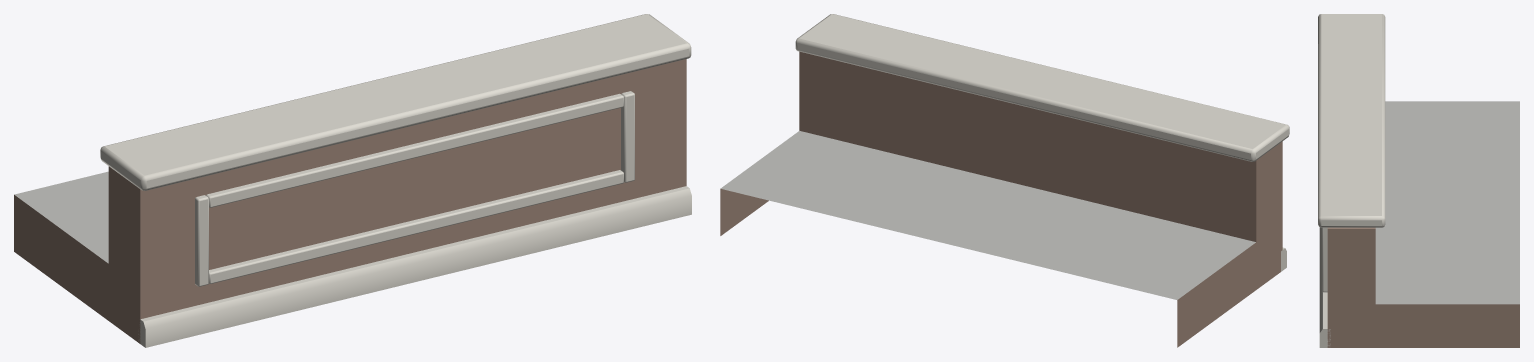
File: cap_parapet_3.glb
3 views of the same model, side by side, from view 1: azimuth 30°, elevation 25°; view 2: azimuth 150°, elevation 25°; view 3: azimuth 270°, elevation 25° (orthographic). The views are drawn at different scales.
Parts seen in each view (by area): view 1: cap_parapet_3; view 2: cap_parapet_3; view 3: cap_parapet_3.
Boxes of the visible parts, left/top/right/bottom form: cap_parapet_3: left=14, top=14, right=691, bottom=347; cap_parapet_3: left=720, top=14, right=1289, bottom=347; cap_parapet_3: left=1318, top=14, right=1519, bottom=347.
Bounding box in the file's own units: 3.02 × 0.9 × 1.26.
